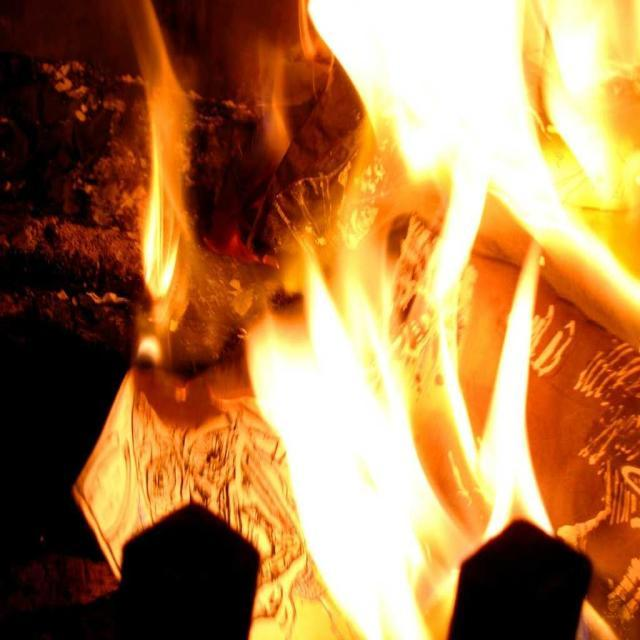Fire: (395, 3, 531, 168), (311, 346, 401, 582), (498, 372, 528, 508), (340, 3, 391, 75), (254, 343, 298, 400)
